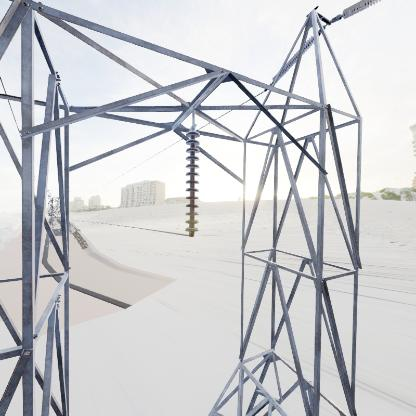insulator: (181, 129, 204, 238)
